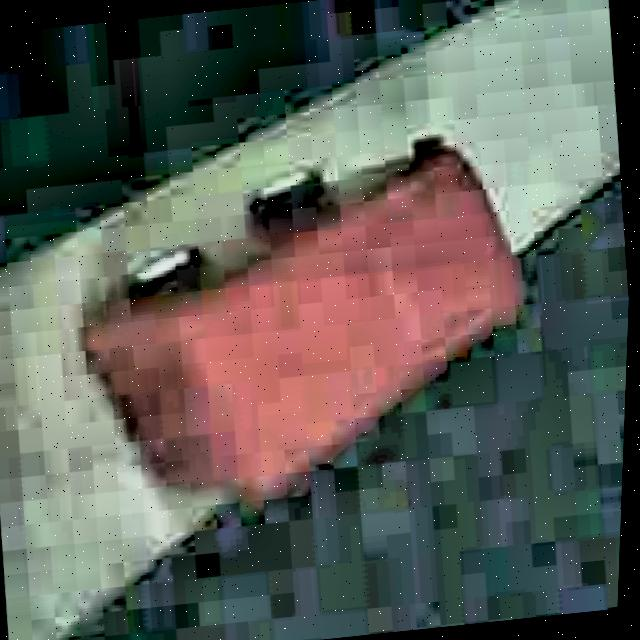bus: (53, 126, 552, 517)
